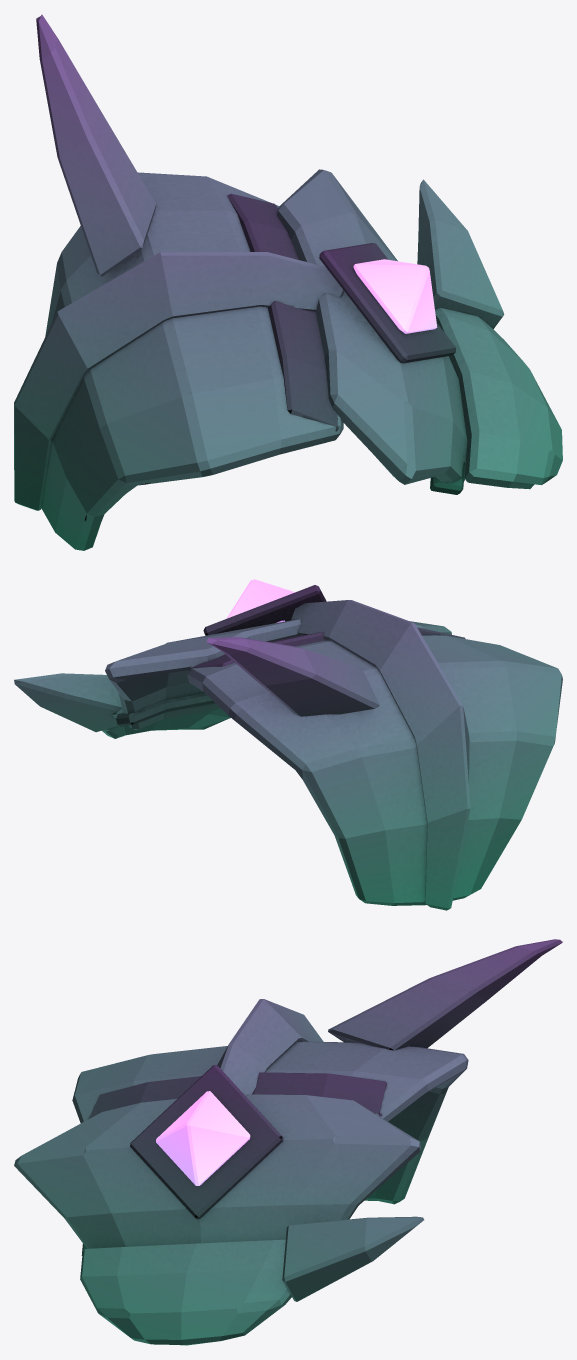
Rendered from armor_pauldron_solana.glb.
3 renders of one model, top to bottom at view 1: azimuth 30°, elevation 25°; view 2: azimuth 150°, elevation 25°; view 3: azimuth 270°, elevation 25°, orthographic. The views are drawn at different scales.
Visible parts, largest first — view 1: paul_plates; view 2: paul_plates; view 3: paul_plates.
Boxes of the visible parts, left/top/right/bottom form: paul_plates: left=14, top=14, right=562, bottom=550; paul_plates: left=14, top=579, right=562, bottom=910; paul_plates: left=14, top=939, right=562, bottom=1345.
Size of the model in its own units: 0.332 by 0.2534 by 0.3902.
Materials: 3 (3 with a texture image).
